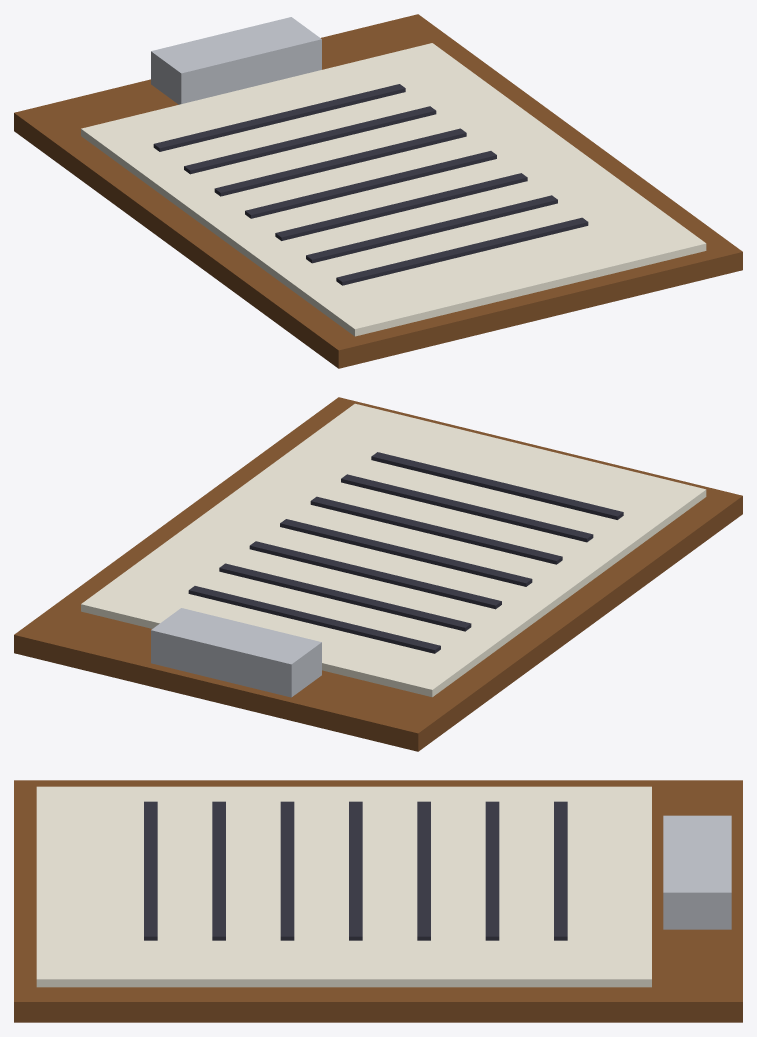
File: patient_list.glb
3 views of the same model, one above another, from view 1: azimuth 30°, elevation 25°; view 2: azimuth 150°, elevation 25°; view 3: azimuth 270°, elevation 25° (orthographic). The views are drawn at different scales.
Parts seen in each view (by area): view 1: sheet_pawn_story_paper, board_clipboard_brown, line_pawn_story_ink (×7), clip_clipboard_clip; view 2: sheet_pawn_story_paper, board_clipboard_brown, line_pawn_story_ink (×7), clip_clipboard_clip; view 3: sheet_pawn_story_paper, board_clipboard_brown, line_pawn_story_ink (×7), clip_clipboard_clip.
Part boxes in pixels (bbox=[...]): sheet_pawn_story_paper: bbox=[81, 43, 706, 336]; board_clipboard_brown: bbox=[14, 14, 742, 368]; line_pawn_story_ink (×7): bbox=[153, 84, 588, 285]; clip_clipboard_clip: bbox=[151, 17, 321, 104]; sheet_pawn_story_paper: bbox=[81, 403, 706, 697]; board_clipboard_brown: bbox=[14, 397, 742, 751]; line_pawn_story_ink (×7): bbox=[188, 452, 623, 653]; clip_clipboard_clip: bbox=[151, 608, 321, 697]; sheet_pawn_story_paper: bbox=[36, 786, 651, 987]; board_clipboard_brown: bbox=[14, 780, 742, 1022]; line_pawn_story_ink (×7): bbox=[144, 801, 567, 940]; clip_clipboard_clip: bbox=[663, 815, 731, 929].
Bounding box in the file's own units: 0.23 × 0.028 × 0.32.
